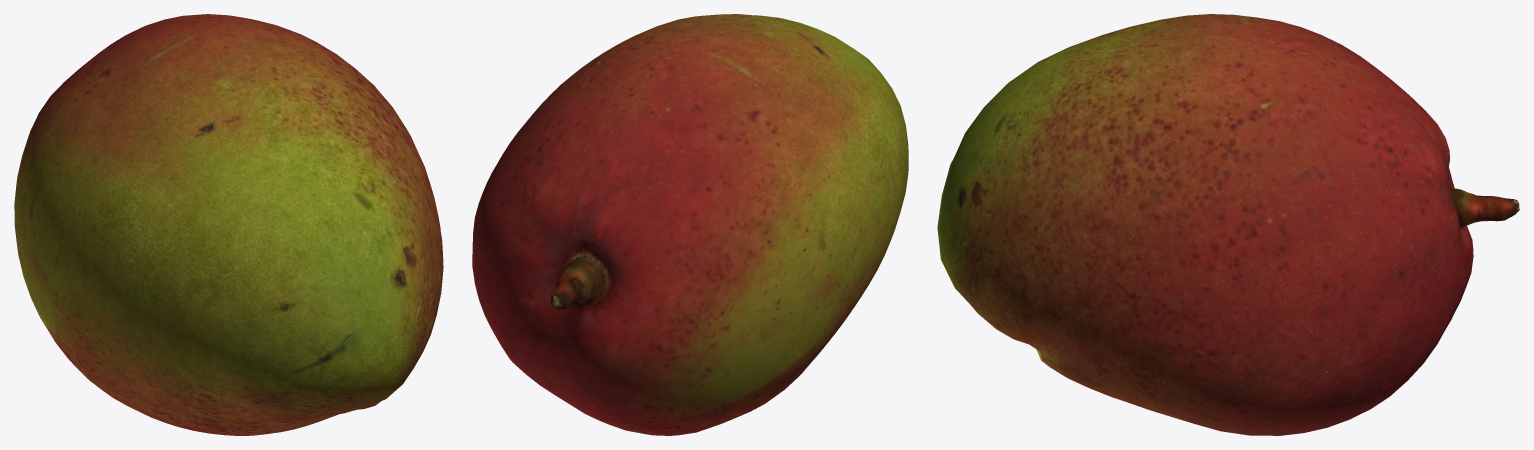
The model's file is mango-0.glb.
The picture shows the model from 3 angles, left to right: view 1: azimuth 30°, elevation 25°; view 2: azimuth 150°, elevation 25°; view 3: azimuth 270°, elevation 25°; orthographic projection. The views are drawn at different scales.
Visible parts, largest first — view 1: Object_2; view 2: Object_2; view 3: Object_2.
Part boxes in pixels (x1,y1,x2,y2): Object_2: [14, 14, 443, 435]; Object_2: [472, 14, 908, 435]; Object_2: [937, 14, 1519, 435].
Bounding box in the file's own units: 16.71 × 17.52 × 23.95.
Materials: 1 (1 with a texture image).
